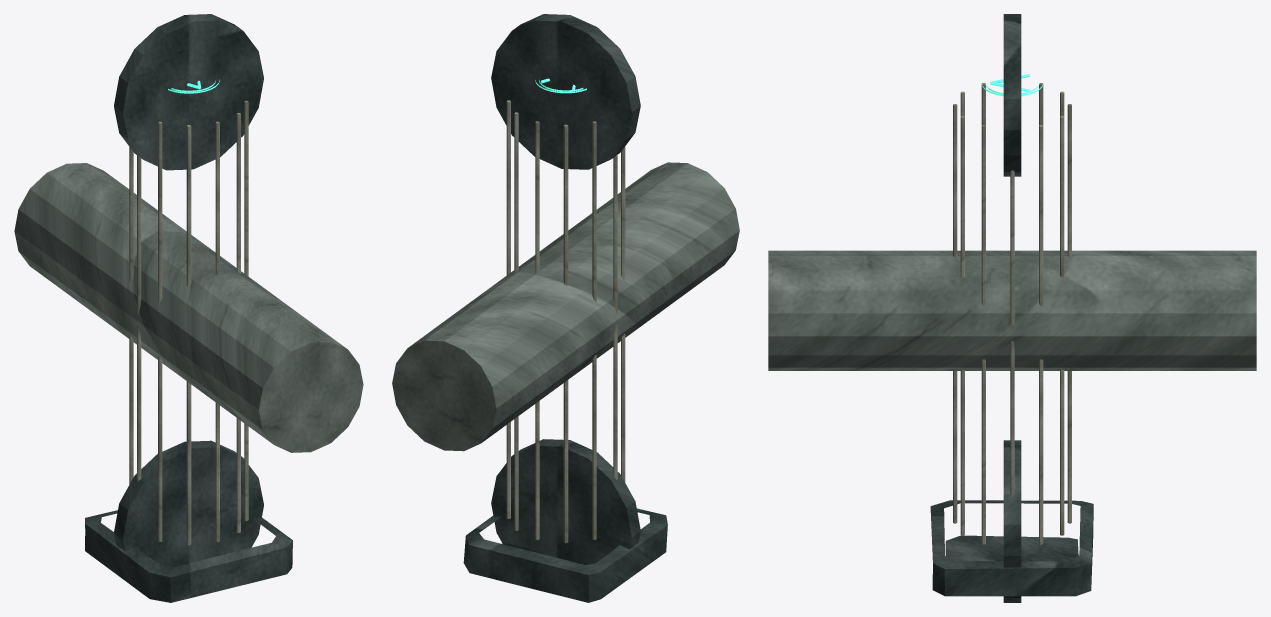
The model's file is 0288_fluted_column_13.glb.
3 renders of one model, left to right at view 1: azimuth 30°, elevation 25°; view 2: azimuth 150°, elevation 25°; view 3: azimuth 270°, elevation 25°, orthographic.
Parts seen in each view (by area): view 1: stone, stone_dark, stone_light; view 2: stone, stone_dark, stone_light; view 3: stone, stone_dark, stone_light.
Part boxes in pixels (left/top/right/bottom): stone: left=14, top=163, right=363, bottom=452; stone_dark: left=85, top=14, right=292, bottom=602; stone_light: left=129, top=100, right=248, bottom=545; stone: left=392, top=162, right=739, bottom=451; stone_dark: left=463, top=14, right=667, bottom=602; stone_light: left=506, top=100, right=625, bottom=543; stone: left=768, top=250, right=1256, bottom=370; stone_dark: left=930, top=14, right=1093, bottom=602; stone_light: left=953, top=83, right=1071, bottom=544.
Bounding box in the file's own units: 1.27 × 4.93 × 3.8.
4 materials, 4 textured.
